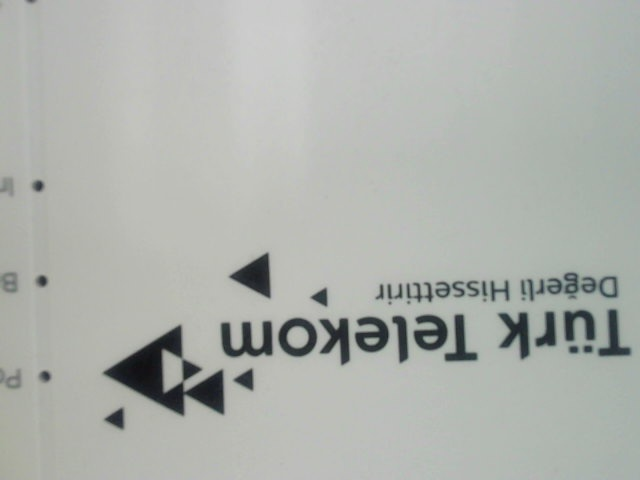AQ_TURKTelekom: (72, 243, 632, 431)
